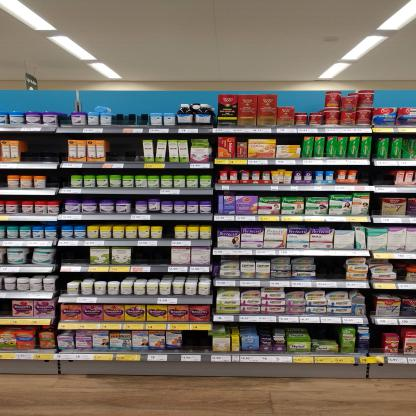Void: (107, 136, 146, 162), (224, 322, 296, 334), (28, 134, 65, 156), (380, 90, 415, 110), (132, 247, 168, 265), (358, 164, 392, 182), (296, 90, 322, 113), (115, 109, 150, 125), (56, 250, 91, 265), (306, 324, 337, 340), (182, 331, 204, 350), (371, 328, 385, 354), (320, 261, 340, 275), (42, 174, 64, 186), (368, 194, 380, 215), (276, 94, 290, 106), (280, 136, 298, 144), (59, 276, 67, 292), (163, 228, 174, 238)
